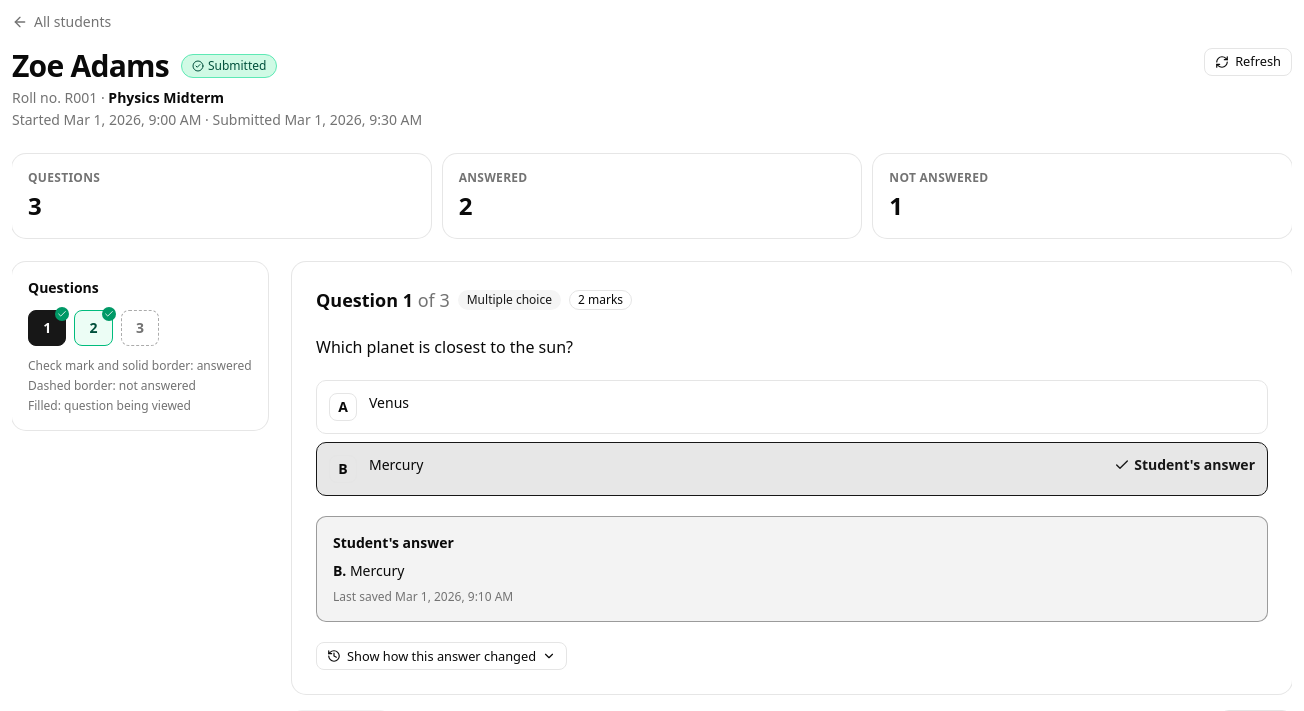
StudentResponseReview with recordings › tells the reviewer how a STT_CONFIRMED answer came to be
Expected: the text "Which planet is closest to the sun?" is shown, [316,336,573,358]
Click the button named "Question 2": (94, 328) [74,310,113,346]
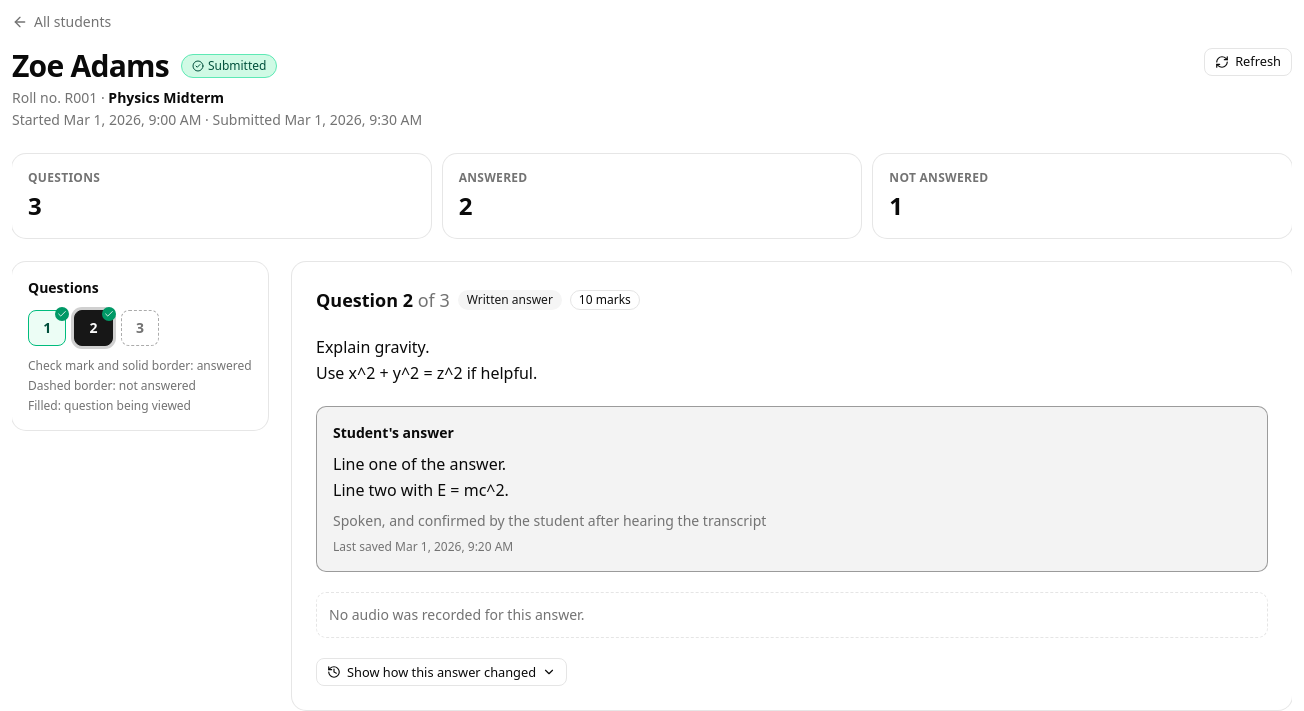
Now the text with test id "answer-source" shows "confirmed by the student after hearing the transcript", box [333,511,766,530]
